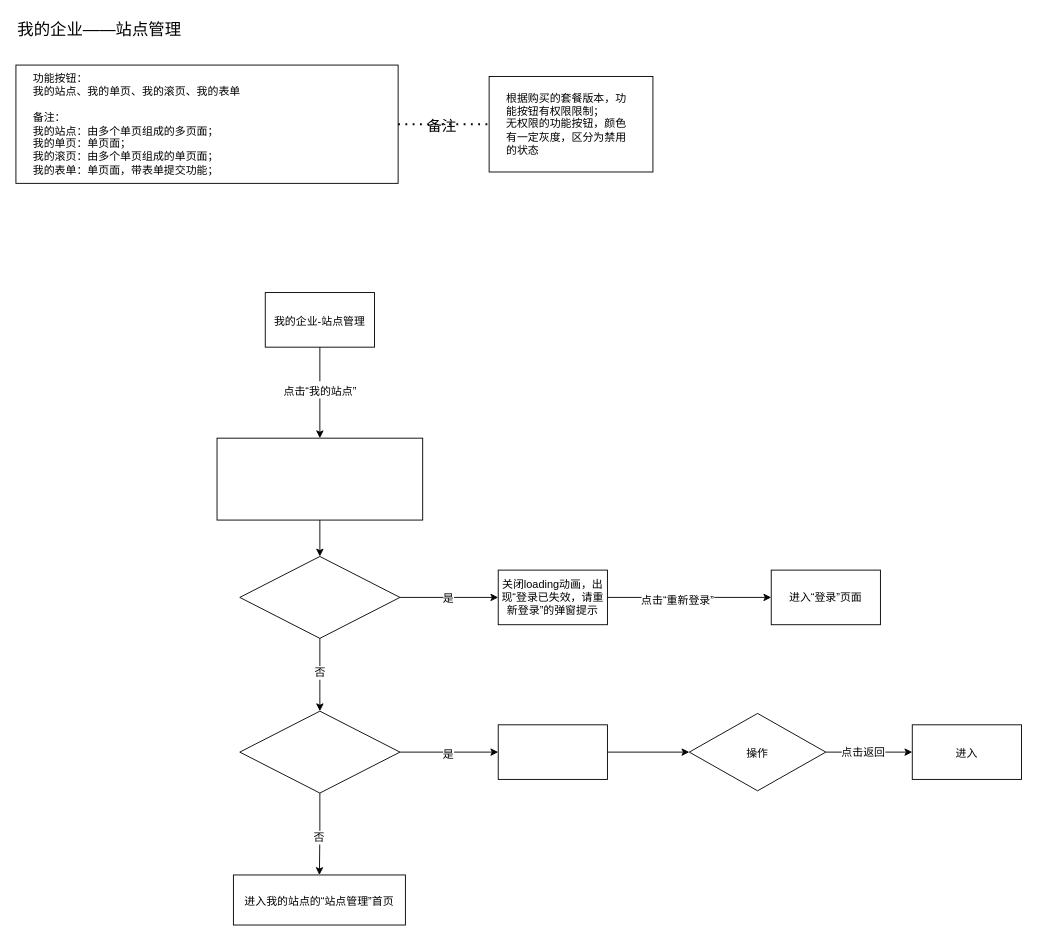
Some shapes in this 1037 by 941 pixel diagram are drawn without their labels. Here are the shapes that lost their labels. From the top down, the centre of each, then its label:
the point at 319,478: 进入“站点编辑”页面 （页面内容空白，显示loading动画）
the point at 319,597: 没有登录或登录超时
the point at 319,751: 没有站点
the point at 552,751: 进入“创建站点”页面
